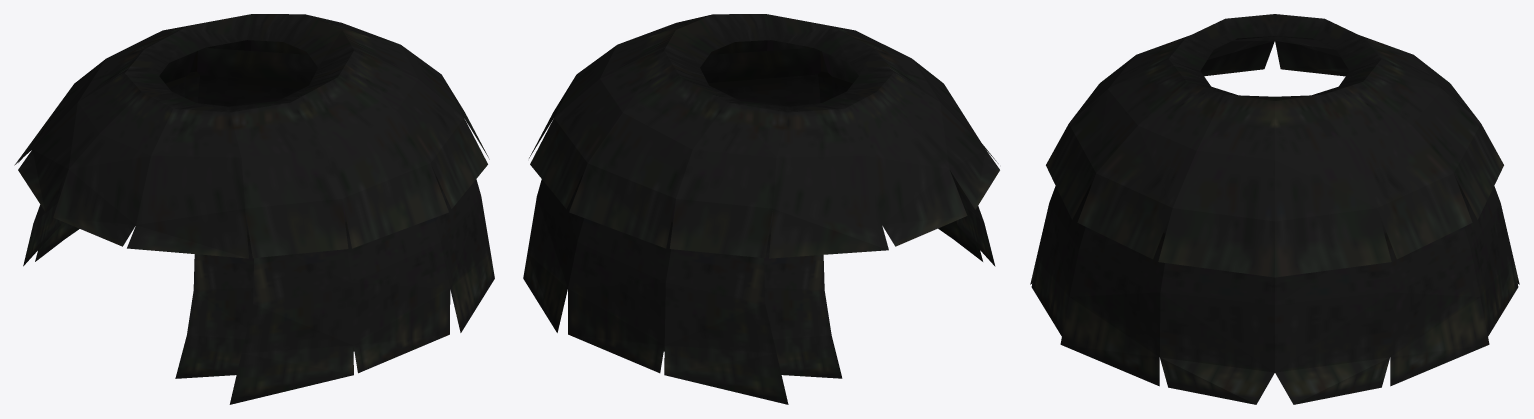
Rendered from Panda_wig.obj.
3 renders of one model, left to right at view 1: azimuth 30°, elevation 25°; view 2: azimuth 150°, elevation 25°; view 3: azimuth 270°, elevation 25°, orthographic. The views are drawn at different scales.
Parts seen in each view (by area): view 1: Panda_wig_tri; view 2: Panda_wig_tri; view 3: Panda_wig_tri.
Part boxes in pixels (x1,y1,x2,y2): Panda_wig_tri: (14, 14, 494, 404); Panda_wig_tri: (523, 14, 999, 404); Panda_wig_tri: (1030, 14, 1519, 404).
Bounding box in the file's own units: 0.5098 × 0.2883 × 0.4923.
1 material, 1 textured.
